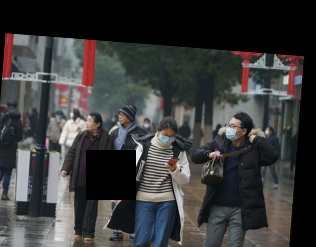with_mask: (223, 121, 242, 142), (157, 130, 176, 146), (263, 128, 271, 138)
without_mask: (84, 116, 96, 131), (116, 111, 128, 124)
